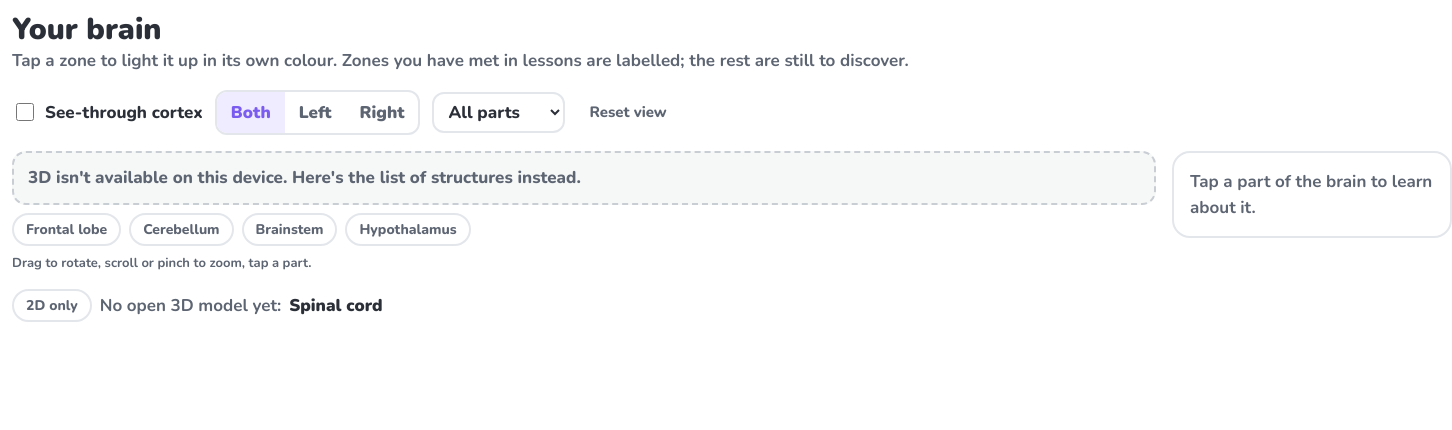
Scenario: the Explorer panel hides undiscovered structures and shows discovered ones
The image size is (1452, 430).
Click the button "Brainstem".
click(290, 229)  # box [242, 212, 338, 246]
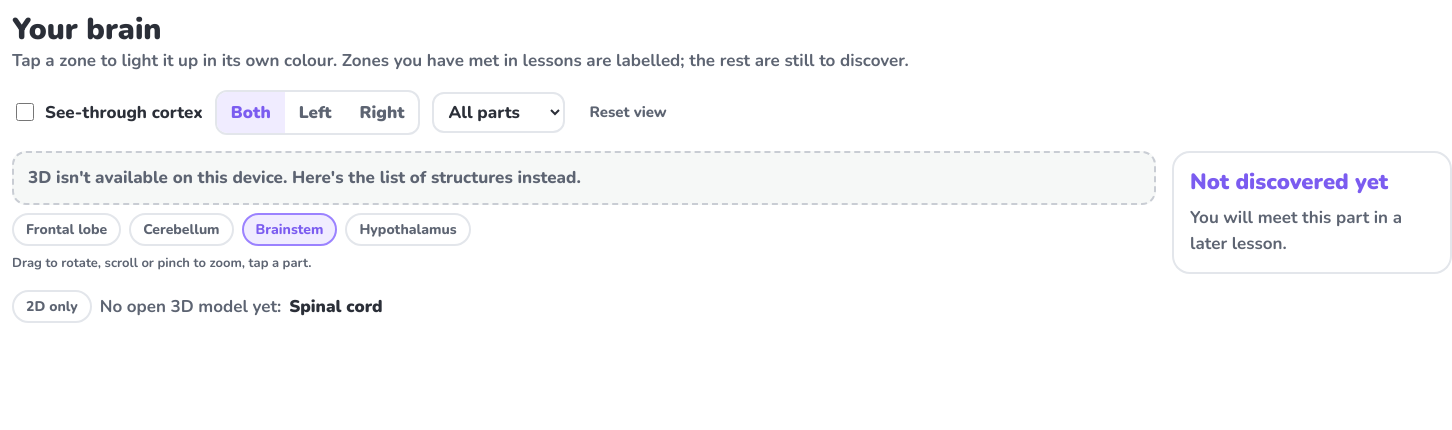
Now the heading "Not discovered yet" is shown, box [1190, 167, 1388, 197]
Click the button "Cerebellum".
click(181, 229)  # box [129, 212, 234, 246]
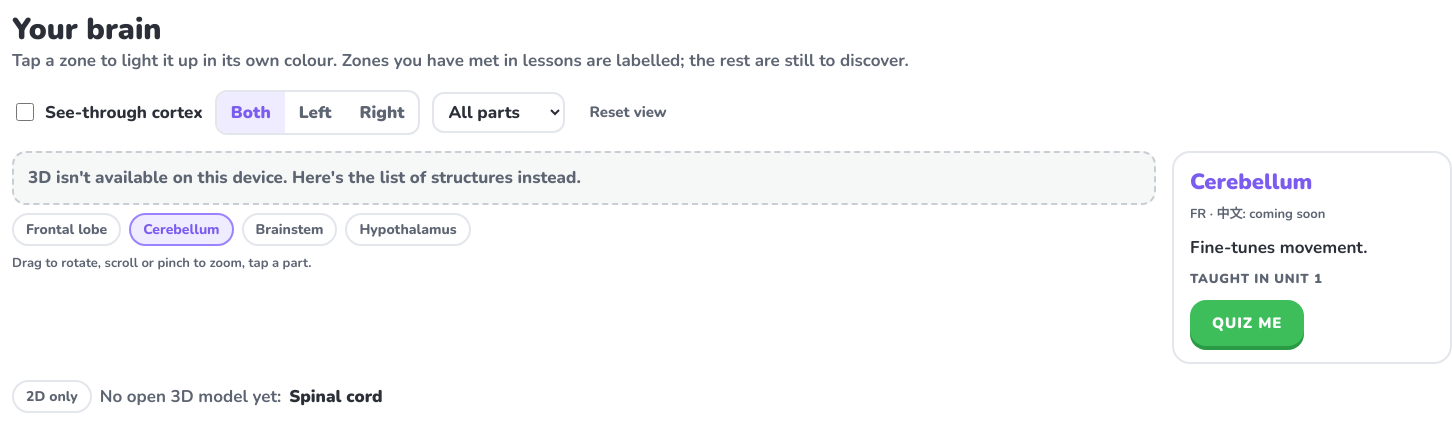
Now the text "Fine-tunes movement." is shown, box [1190, 236, 1367, 259]
Now the text "Taught in Unit 1" is shown, box [1190, 270, 1323, 288]
Now the text "FR · 中文: coming soon" is shown, box [1190, 205, 1325, 223]
